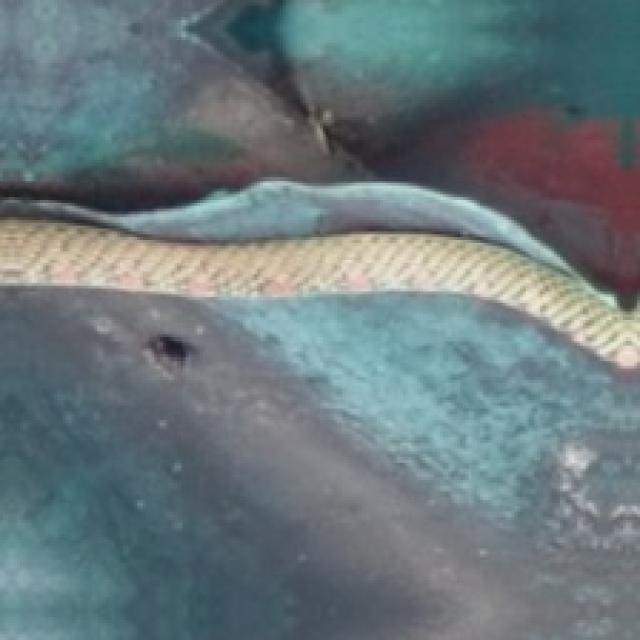paradise tree snake: (0, 286, 637, 637), (0, 180, 620, 314), (0, 220, 306, 291), (317, 257, 386, 286)
